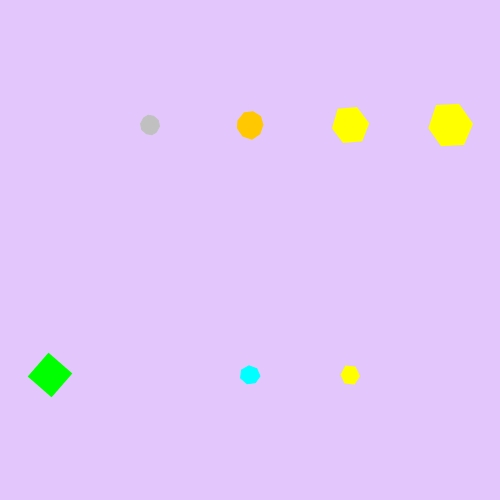decagon: (135, 111, 165, 139)
heptagon: (236, 361, 265, 389)
hexagon: (422, 102, 478, 148), (326, 105, 374, 145), (335, 362, 365, 388)
nonagon: (232, 108, 268, 143)
quadrilateral: (25, 350, 76, 401)
